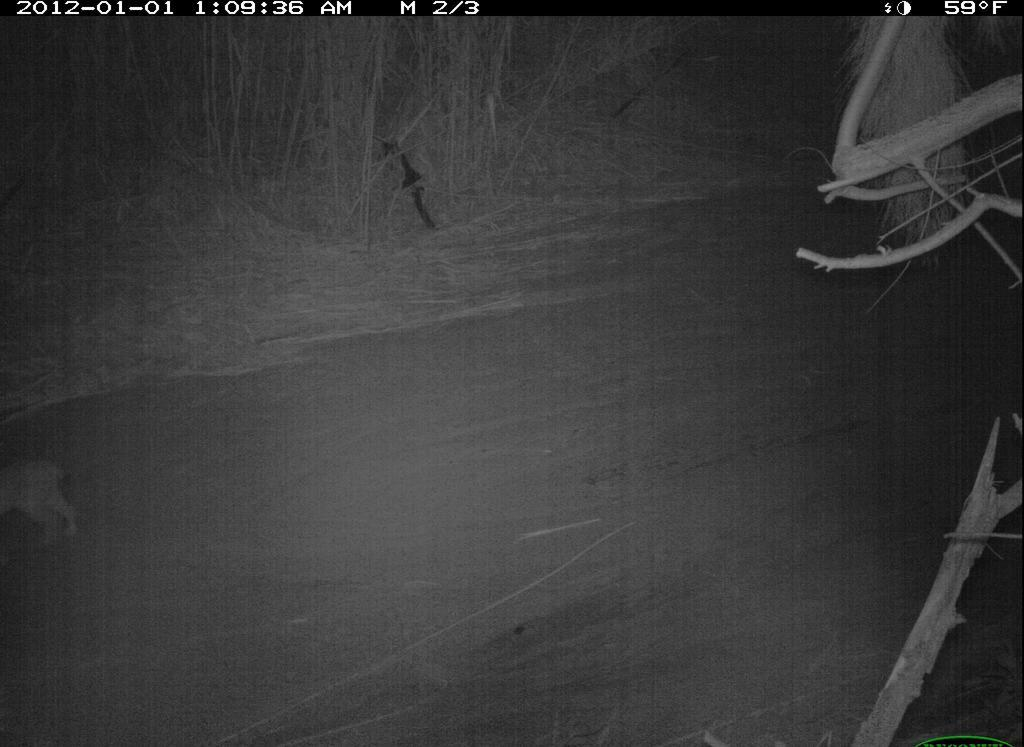bobcat: (2, 445, 99, 552)
